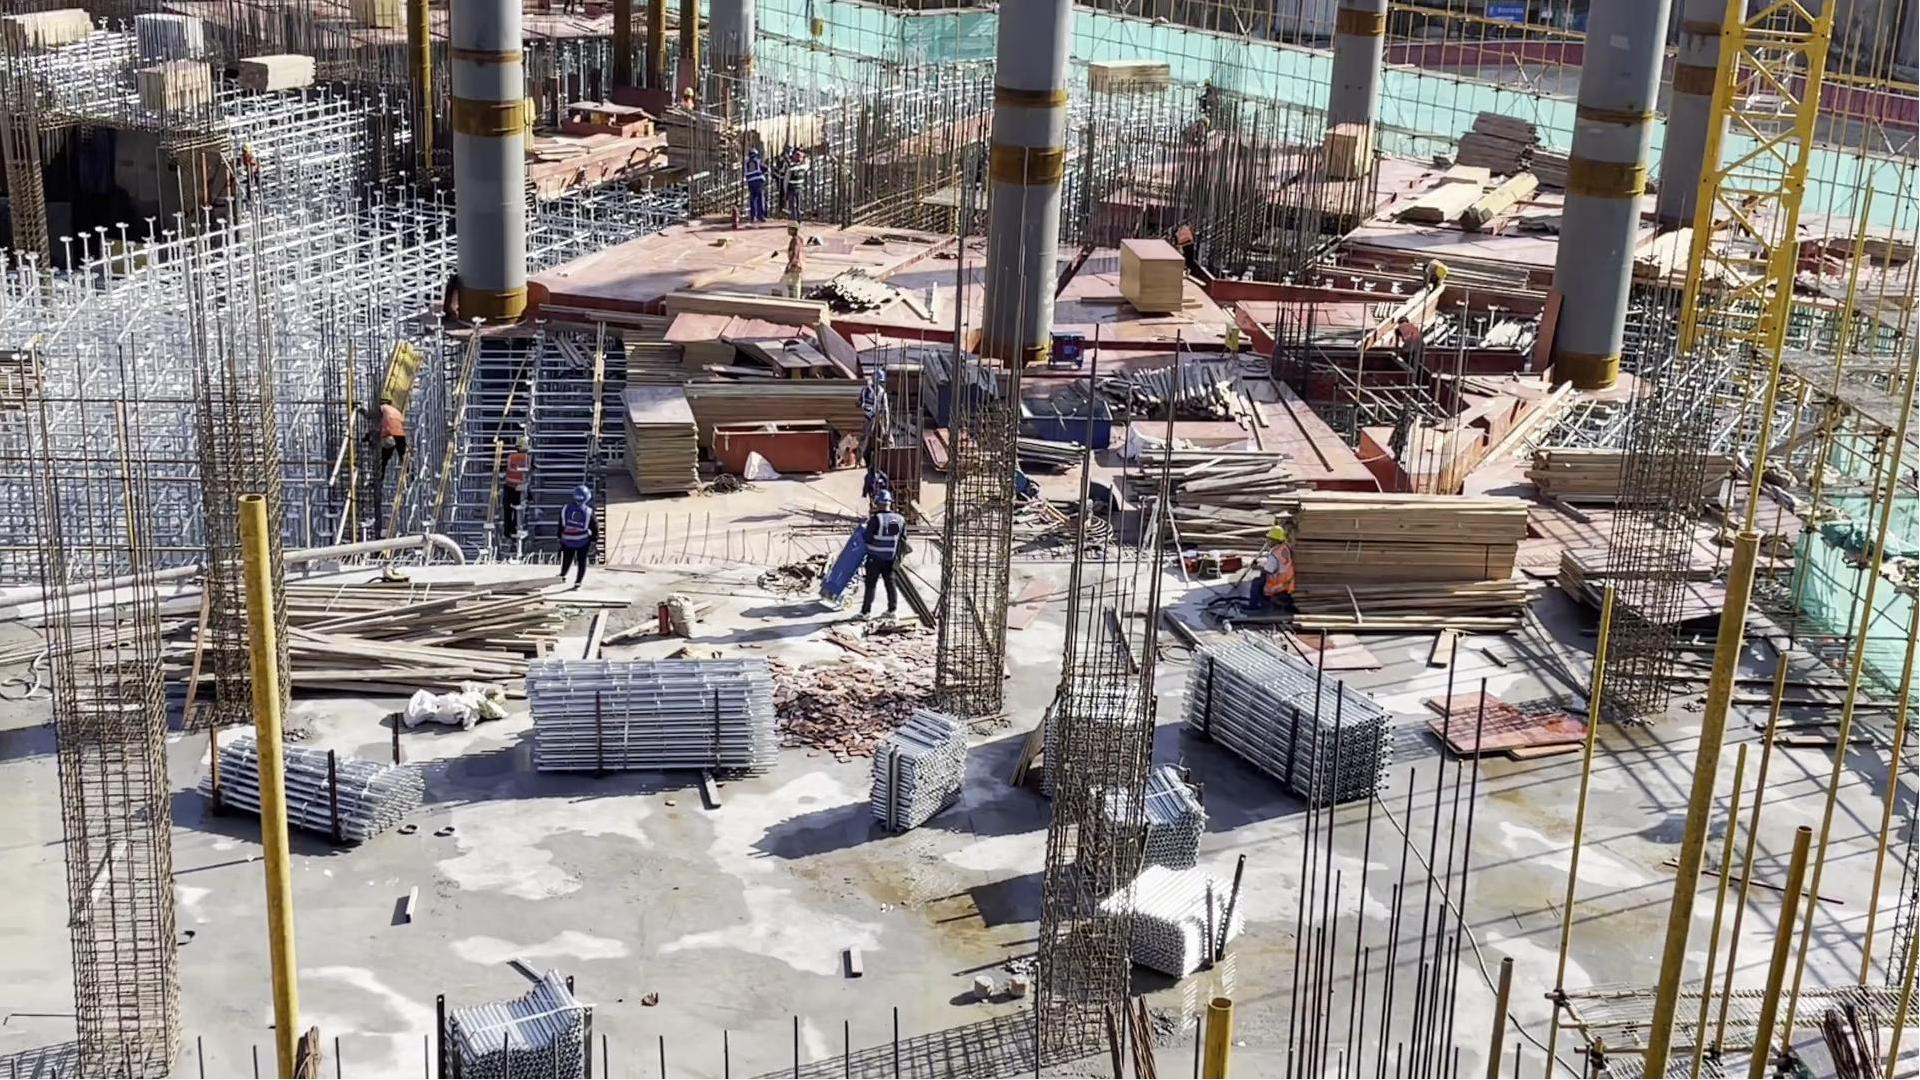board: (623, 389, 697, 488), (1117, 239, 1186, 315), (671, 314, 736, 362)
ebox: (1225, 327, 1242, 364)
helmet: (574, 485, 590, 502), (1266, 527, 1285, 541), (875, 490, 892, 502), (1436, 266, 1448, 278), (516, 438, 529, 448), (787, 219, 799, 228), (748, 148, 758, 157), (682, 89, 693, 96)
hopper: (1023, 392, 1111, 445)
person: (863, 493, 901, 618), (354, 393, 409, 479), (557, 485, 596, 590), (1253, 527, 1296, 613), (497, 437, 532, 529), (780, 219, 809, 308), (864, 369, 884, 463), (747, 148, 766, 221), (1391, 318, 1426, 360), (786, 148, 804, 217), (680, 88, 695, 111)
scaffold: (1194, 638, 1392, 806), (531, 664, 777, 773), (220, 741, 423, 842), (1111, 861, 1239, 973), (455, 988, 589, 1076), (873, 716, 966, 824), (1101, 780, 1200, 881)
vest: (869, 512, 898, 565), (559, 501, 588, 543), (374, 401, 402, 439), (1271, 549, 1292, 599), (500, 454, 525, 493), (747, 164, 763, 191), (1397, 323, 1420, 343), (787, 238, 801, 268)
wood: (1292, 497, 1540, 627), (671, 293, 824, 337), (1531, 446, 1620, 507), (1406, 184, 1471, 230)
